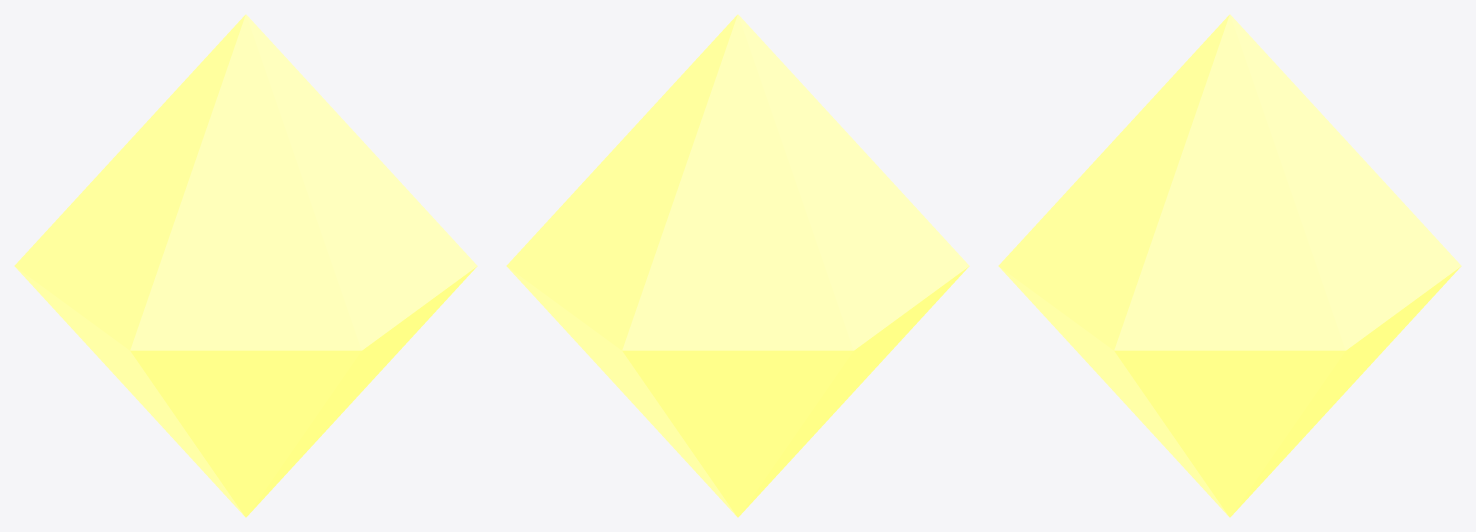
Rendered from item_points.fbx.
3 renders of one model, left to right at view 1: azimuth 30°, elevation 25°; view 2: azimuth 150°, elevation 25°; view 3: azimuth 270°, elevation 25°, orthographic.
Visible parts, largest first — view 1: Item_Points; view 2: Item_Points; view 3: Item_Points.
Part boxes in pixels (x1=…): Item_Points: x1=14, y1=14, x2=477, y2=517; Item_Points: x1=506, y1=14, x2=969, y2=517; Item_Points: x1=998, y1=14, x2=1461, y2=517.
Bounding box in the file's own units: 86.6 × 120 × 100.
